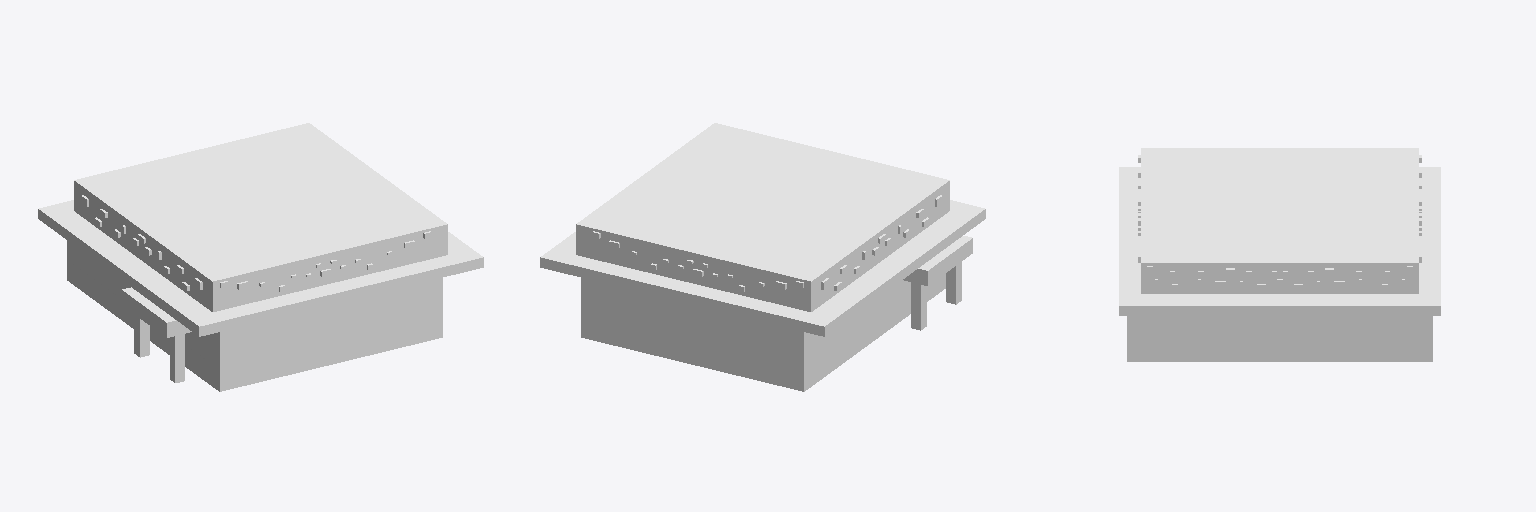
The model's file is centroEventos.obj.
The picture shows the model from 3 angles: view 1: azimuth 30°, elevation 25°; view 2: azimuth 150°, elevation 25°; view 3: azimuth 270°, elevation 25°; orthographic projection.
Bounding box in the file's own units: 120 × 41 × 114.